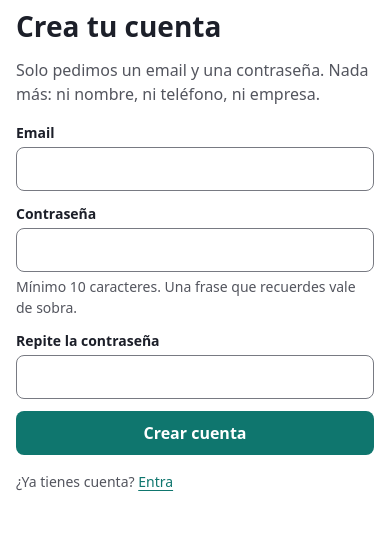
Test case: RegistroView › rechaza en cliente si las contraseñas no coinciden
The width and height of the screenshot is (390, 541).
Type "ana@example.com" into the field labelled "Email".
click(195, 169); type("ana@example.com")  # box left=16, top=147, right=374, bottom=191
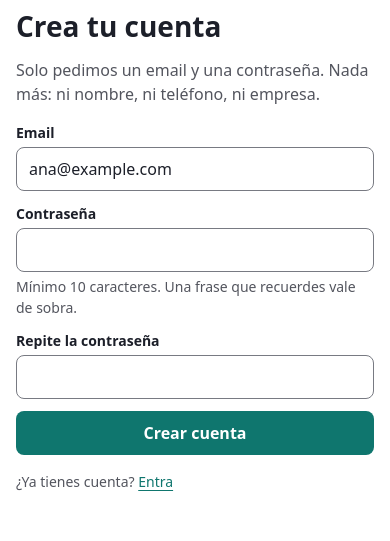
Type "superclave123" into the password field labelled "Contraseña".
click(195, 250); type("superclave123")  # box left=16, top=228, right=374, bottom=272
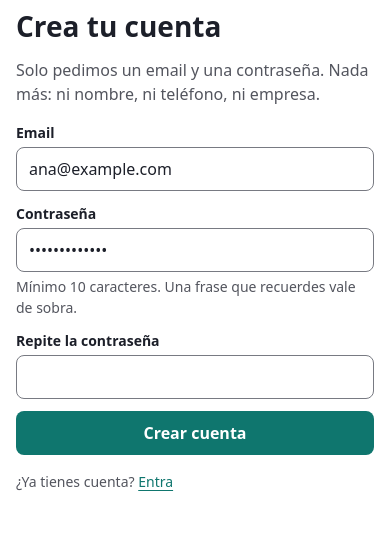
Type "superclave124" into the password field labelled "Repite la contraseña".
click(195, 377); type("superclave124")  # box left=16, top=355, right=374, bottom=399
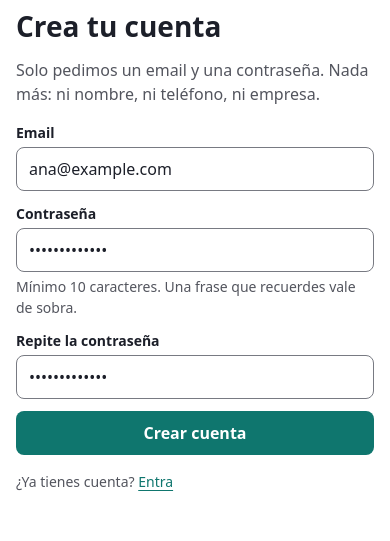
Submit the form, box left=16, top=122, right=374, bottom=455
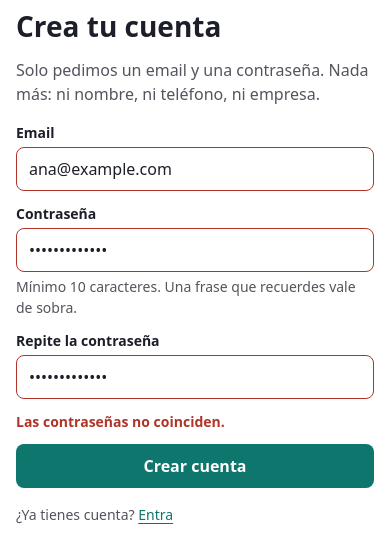
Now the text "no coinciden" is shown, box left=16, top=412, right=225, bottom=431
